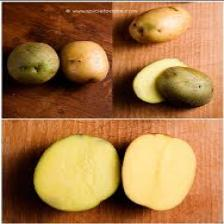Defected potato: (32, 127, 121, 215), (130, 57, 212, 108), (128, 4, 196, 45), (11, 37, 62, 84)
Potato: (116, 127, 201, 215), (60, 39, 110, 79)
